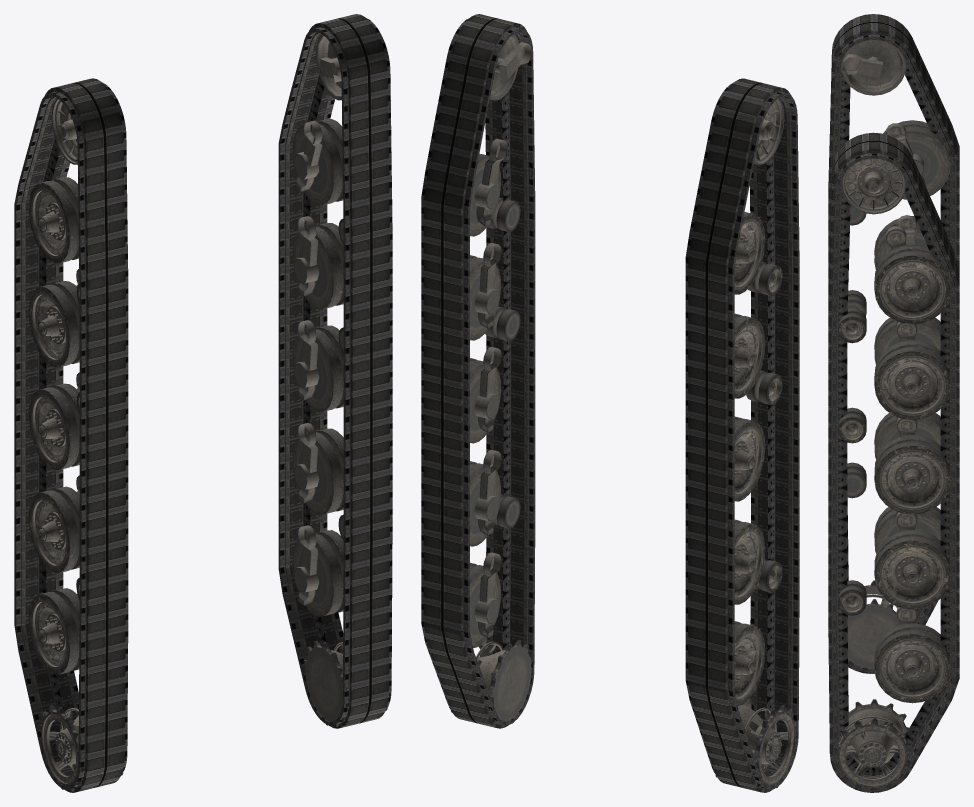
Rendered from Chassis.glb.
3 views of the same model, side by side, from view 1: azimuth 30°, elevation 25°; view 2: azimuth 150°, elevation 25°; view 3: azimuth 270°, elevation 25° (orthographic). The views are drawn at different scales.
Parts seen in each view (by area): view 1: set_0_group_0, set_1_group_0, set_3_group_0, set_2_group_0; view 2: set_0_group_0, set_1_group_0, set_3_group_0, set_2_group_0; view 3: set_3_group_0, set_1_group_0, set_2_group_0, set_0_group_0.
Part boxes in pixels (x1,y1,x2,y2): set_0_group_0: (14, 78, 128, 792); set_1_group_0: (278, 14, 392, 728); set_3_group_0: (292, 34, 390, 727); set_2_group_0: (28, 98, 126, 791); set_0_group_0: (685, 78, 799, 792); set_1_group_0: (421, 14, 535, 728); set_3_group_0: (446, 34, 531, 727); set_2_group_0: (711, 98, 796, 791); set_3_group_0: (832, 158, 950, 792); set_1_group_0: (828, 132, 959, 792); set_2_group_0: (841, 39, 950, 673); set_0_group_0: (828, 14, 959, 673).
Size of the model in its own units: 2.99 by 6.42 by 1.19.
Materials: 4 (4 with a texture image).
